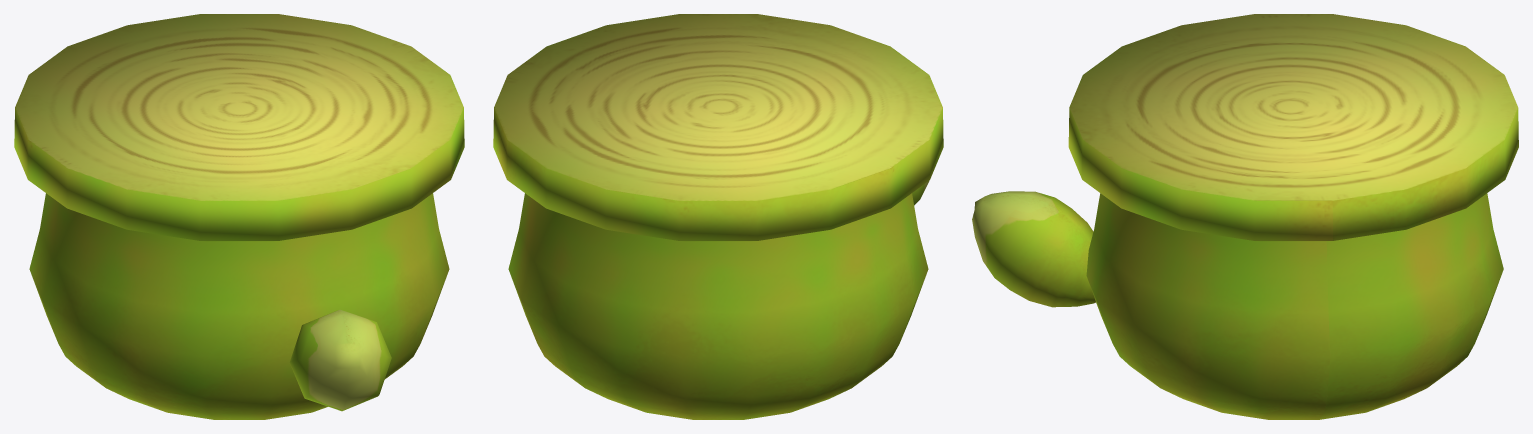
The model's file is table-optimized.glb.
3 renders of one model, left to right at view 1: azimuth 30°, elevation 25°; view 2: azimuth 150°, elevation 25°; view 3: azimuth 270°, elevation 25°, orthographic.
Parts seen in each view (by area): view 1: CuttingBoard; view 2: CuttingBoard; view 3: CuttingBoard.
Boxes of the visible parts, bbox=[...] form: CuttingBoard: bbox=[14, 14, 464, 419]; CuttingBoard: bbox=[493, 14, 943, 419]; CuttingBoard: bbox=[972, 14, 1518, 419].
Bounding box in the file's own units: 8.57 × 5.39 × 10.57.
Materials: 1 (1 with a texture image).
